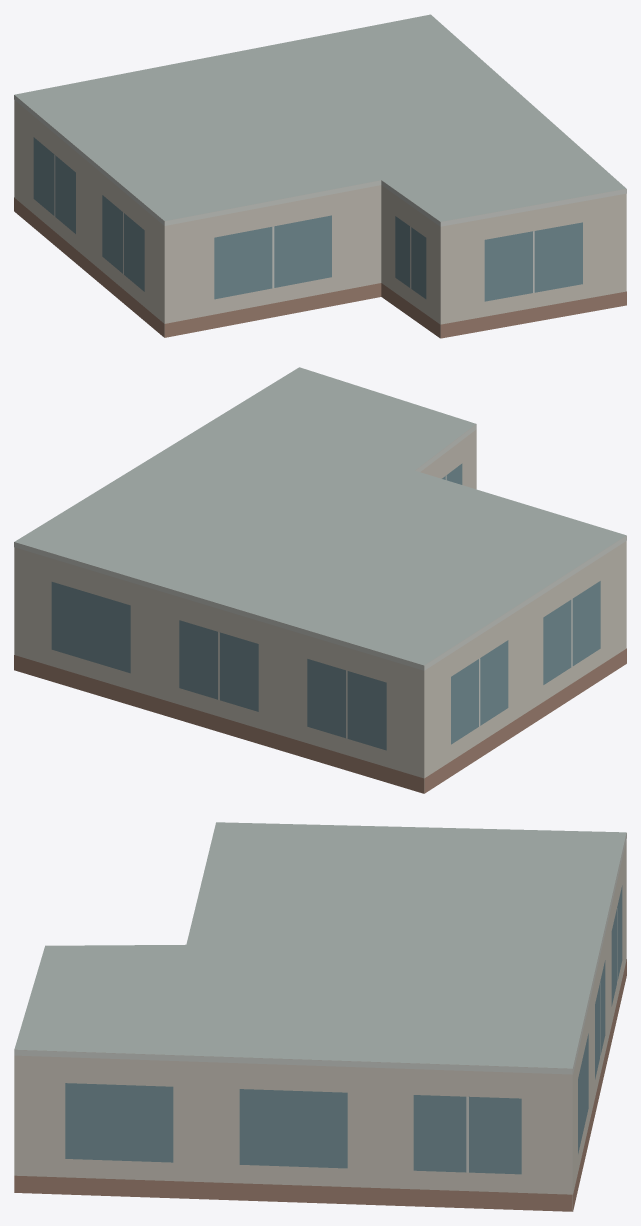
File: survey-upis-32760456.glb
The picture shows the model from 3 angles, top to bottom: view 1: azimuth 30°, elevation 25°; view 2: azimuth 150°, elevation 25°; view 3: azimuth 270°, elevation 25°; orthographic projection. The views are drawn at different scales.
Visible parts, largest first — view 1: survey-upis-32760456.tmp; view 2: survey-upis-32760456.tmp; view 3: survey-upis-32760456.tmp.
Part boxes in pixels (x1=…): survey-upis-32760456.tmp: x1=14, y1=14, x2=626, y2=338; survey-upis-32760456.tmp: x1=14, y1=367, x2=626, y2=793; survey-upis-32760456.tmp: x1=14, y1=822, x2=626, y2=1211.
Bounding box in the file's own units: 11.28 × 3.05 × 11.85.
